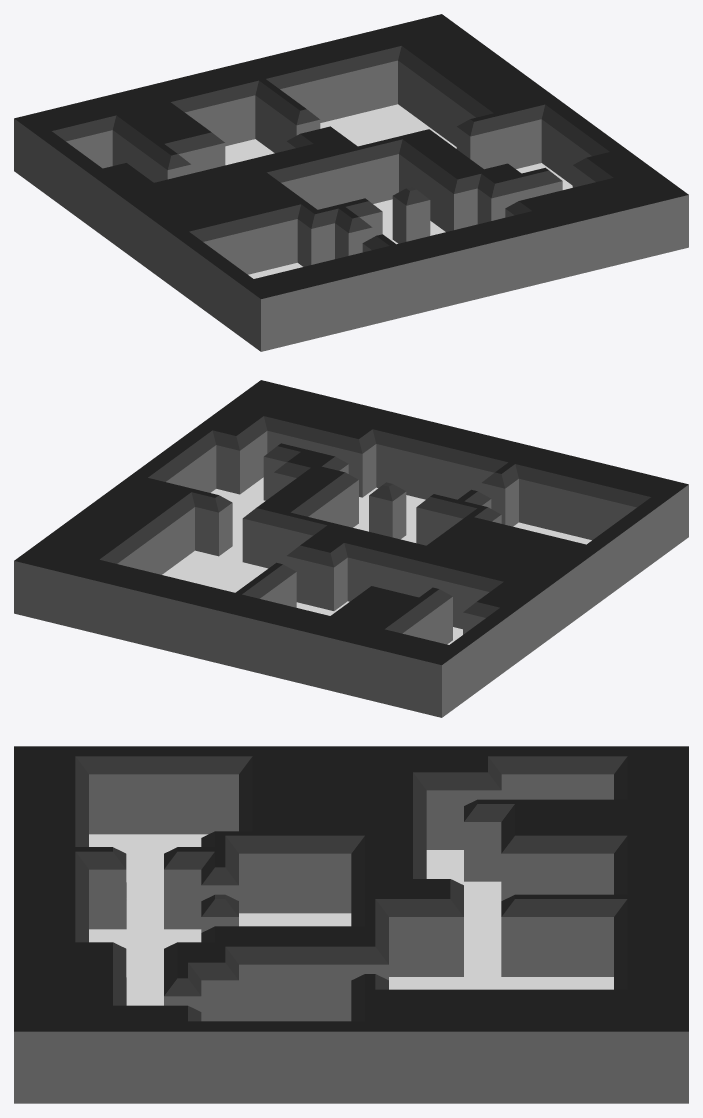
Rendered from lv4Young.fbx.
3 renders of one model, top to bottom at view 1: azimuth 30°, elevation 25°; view 2: azimuth 150°, elevation 25°; view 3: azimuth 270°, elevation 25°, orthographic. The views are drawn at different scales.
Visible parts, largest first — view 1: lvl4Young; view 2: lvl4Young; view 3: lvl4Young.
Boxes of the visible parts, x1,y1,x2,y2 form: lvl4Young: (14, 14, 688, 351); lvl4Young: (14, 380, 688, 717); lvl4Young: (14, 746, 688, 1103).
Bounding box in the file's own units: 2480 × 292 × 2480.
